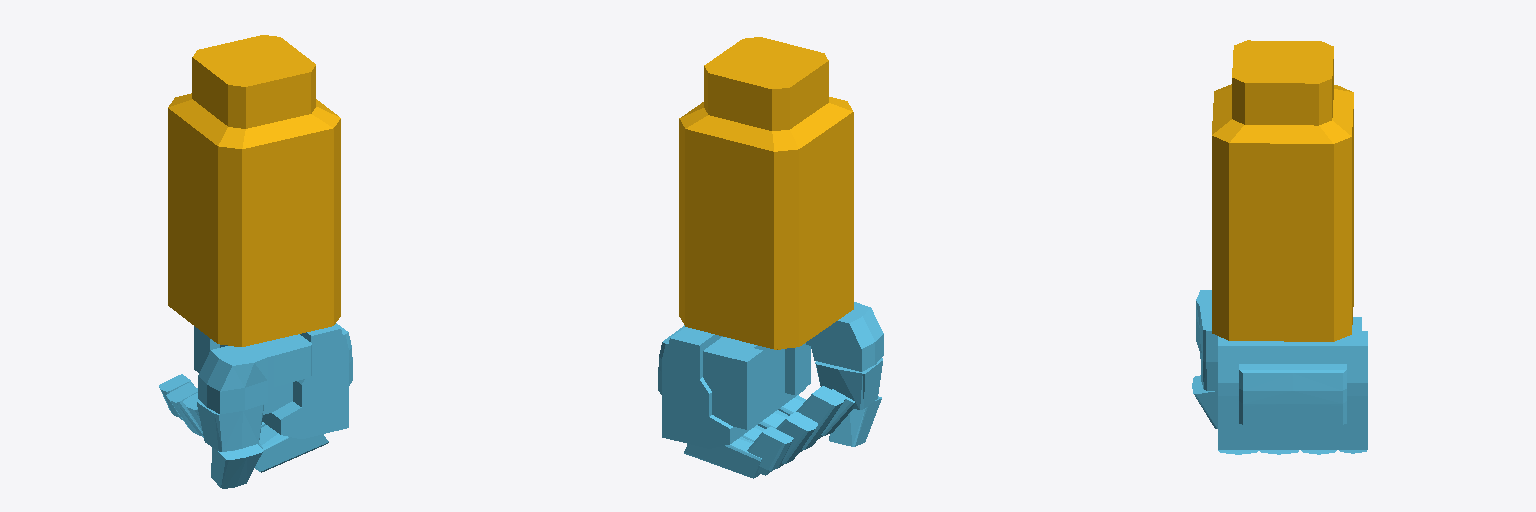
File: handDL.obj
3 views of the same model, side by side, from view 1: azimuth 30°, elevation 25°; view 2: azimuth 150°, elevation 25°; view 3: azimuth 270°, elevation 25° (orthographic).
Visible parts, largest first — view 1: polySurface160; view 2: polySurface160; view 3: polySurface160.
Part boxes in pixels (left/top/right/bottom): polySurface160: left=159, top=35, right=352, bottom=488; polySurface160: left=658, top=37, right=883, bottom=478; polySurface160: left=1192, top=40, right=1367, bottom=454.
Bounding box in the file's own units: 2.83 × 6.69 × 2.76.